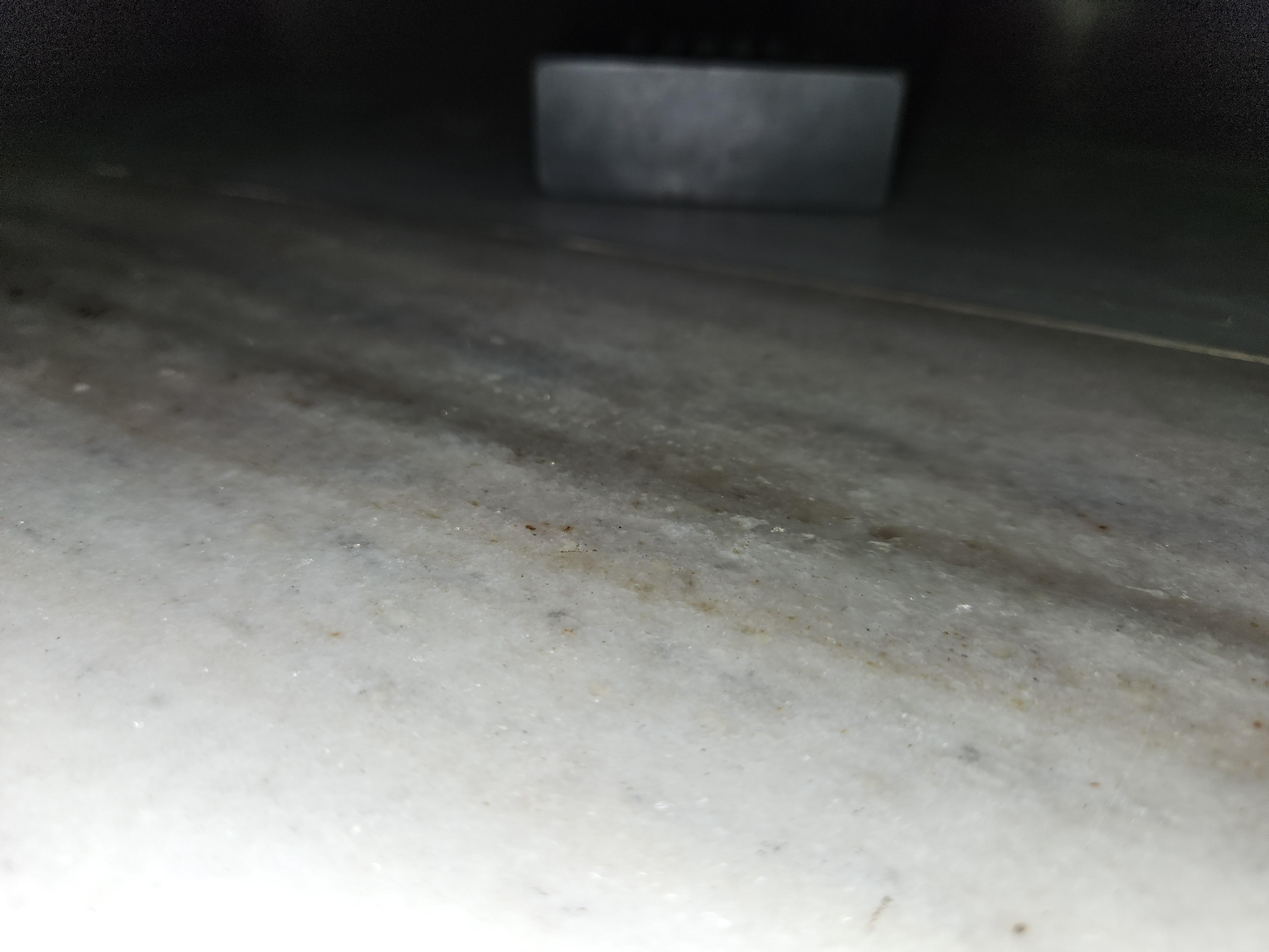speaker: (529, 54, 909, 215)
